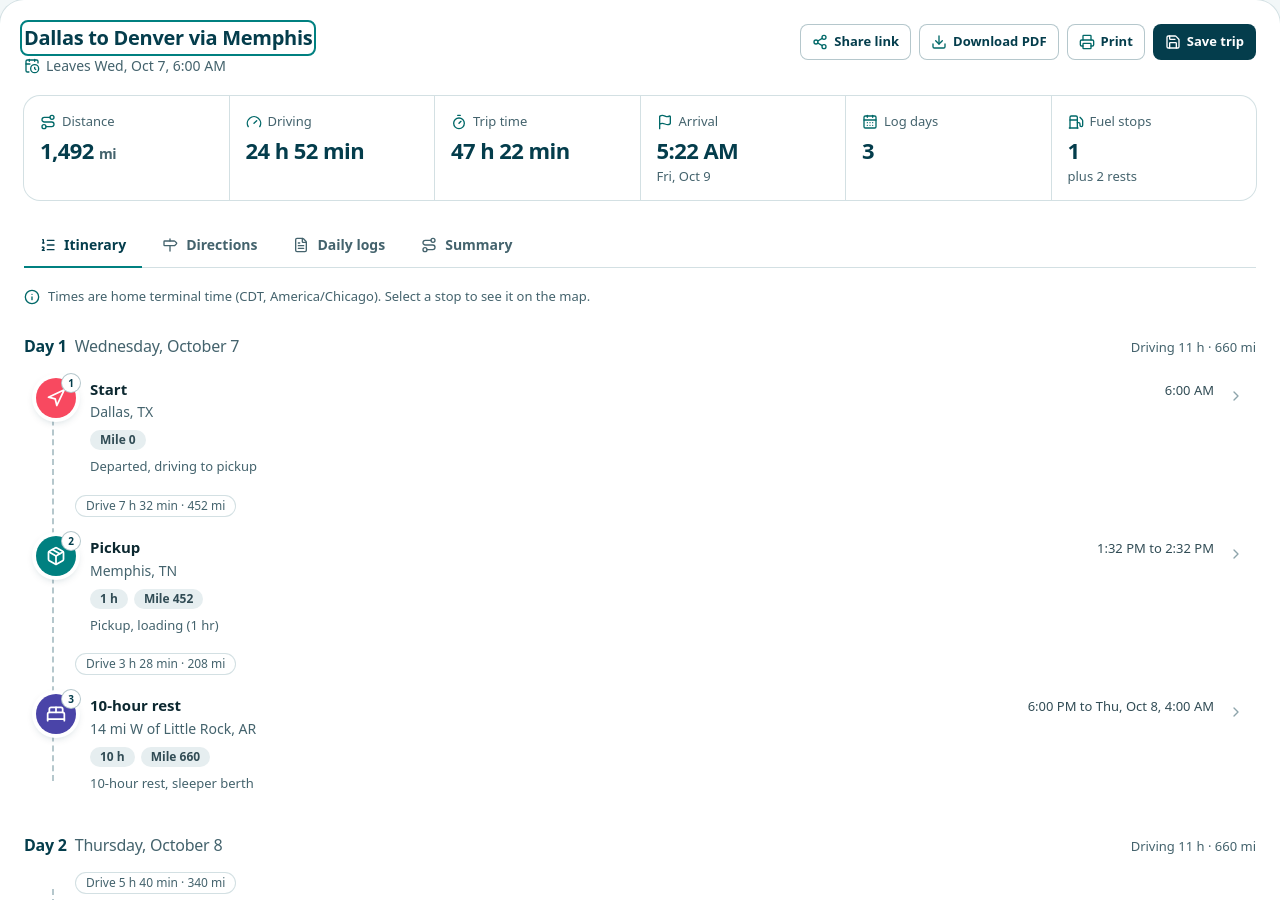
Scenario: summary tab › caps the meter at 70 and never shows negative hours left
Click the tab with test id "tab-summary" at {"x": 467, "y": 246}, box [405,224,528,268]
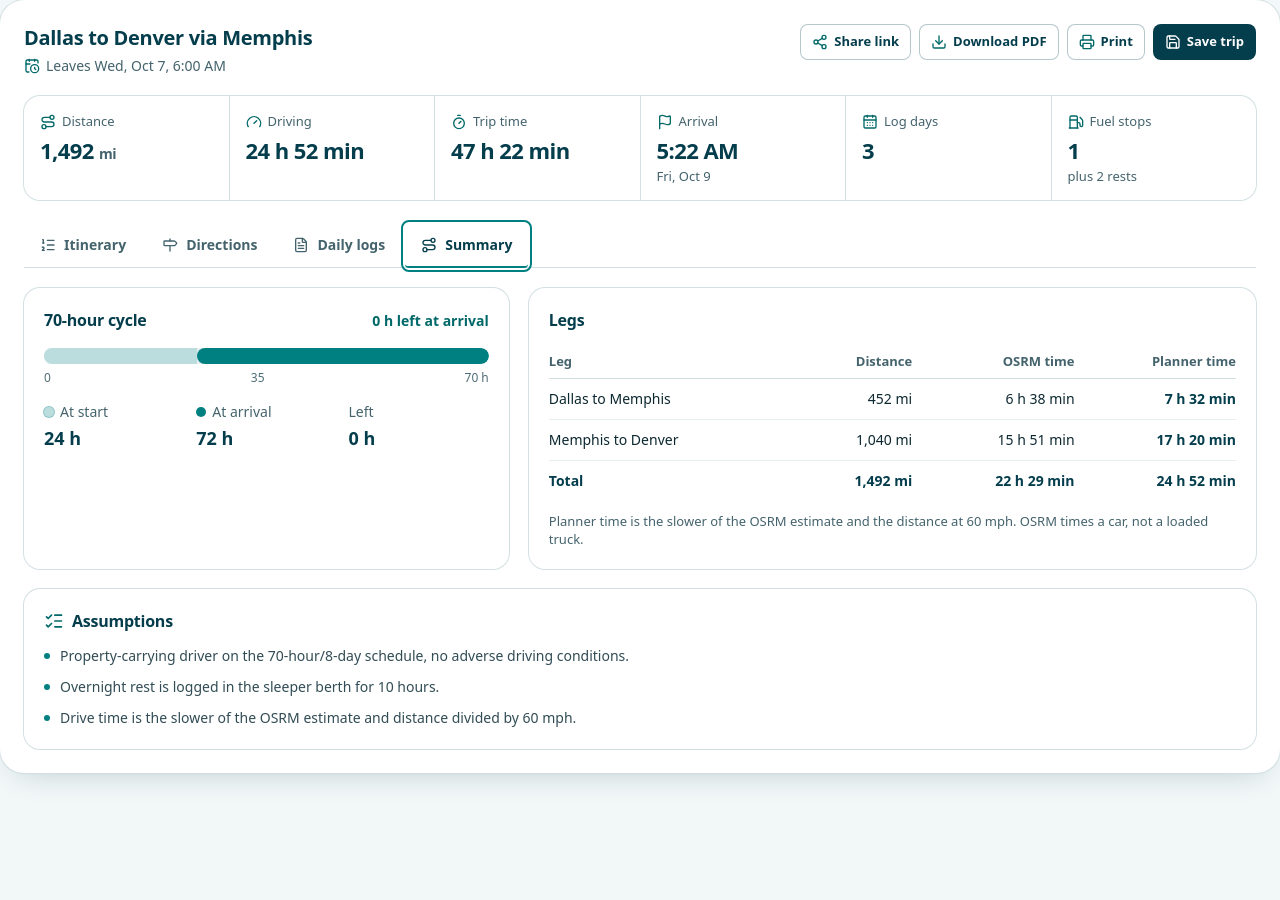
Expected: the element with test id "cycle-meter" shows "0 h left at arrival", [24,288,509,569]
